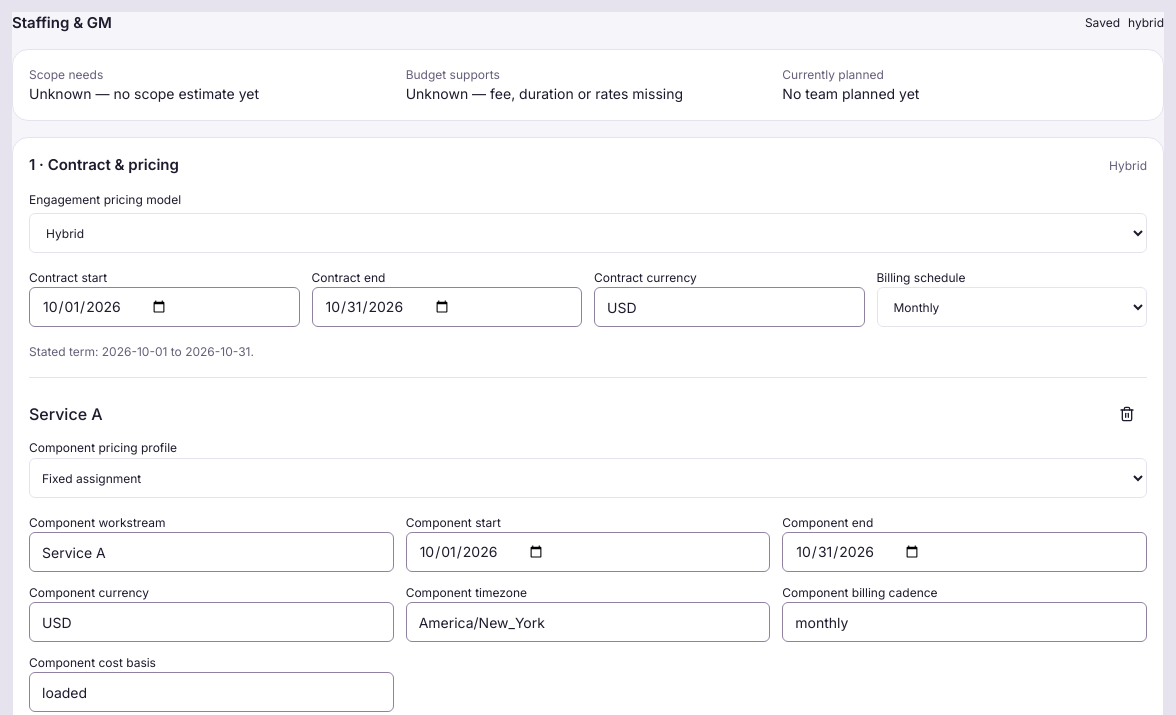
Independent commercial editor boundary checks › does not apply a removed hybrid child's pending model change to its sibling
This screenshot has width=1176, height=715.
Expected: the dropdown named "Pricing profile" is enabled, [29,213,1147,253]
Step 1. Select "Milestone" in the dropdown labelled "Component pricing profile" → coordinates (588, 478), box [29,458,1147,498]
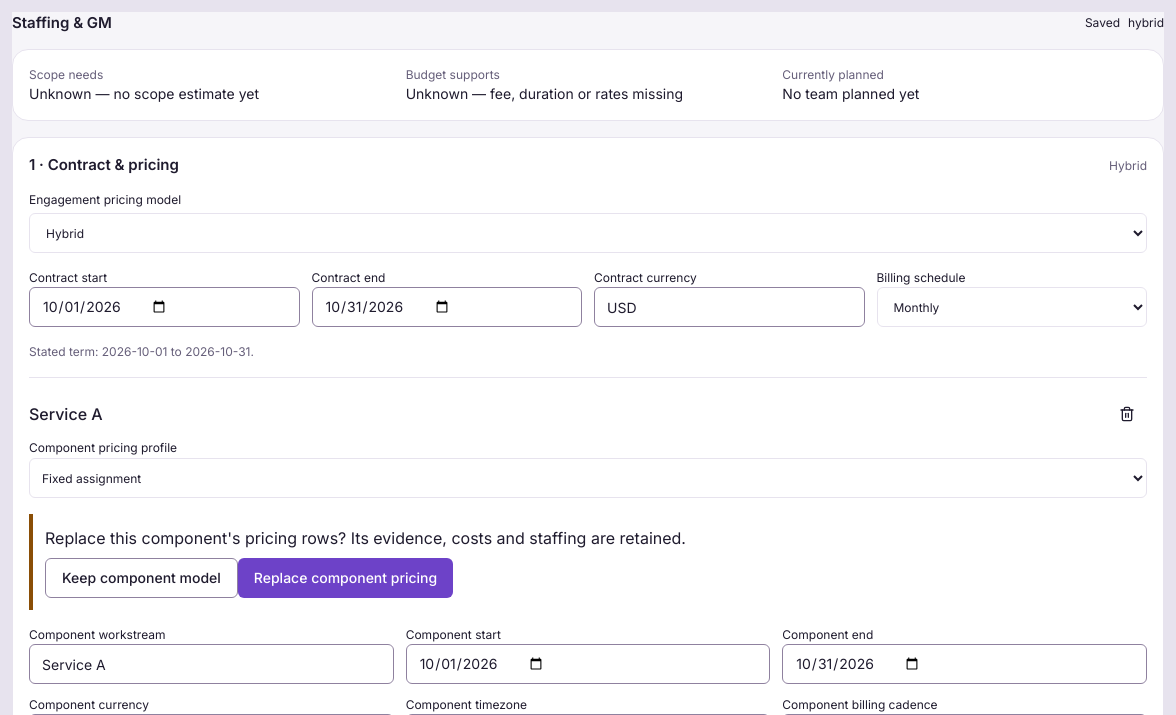
Step 2. Click the button named "Remove component 1" → coordinates (1127, 414), box [1107,394,1147,434]
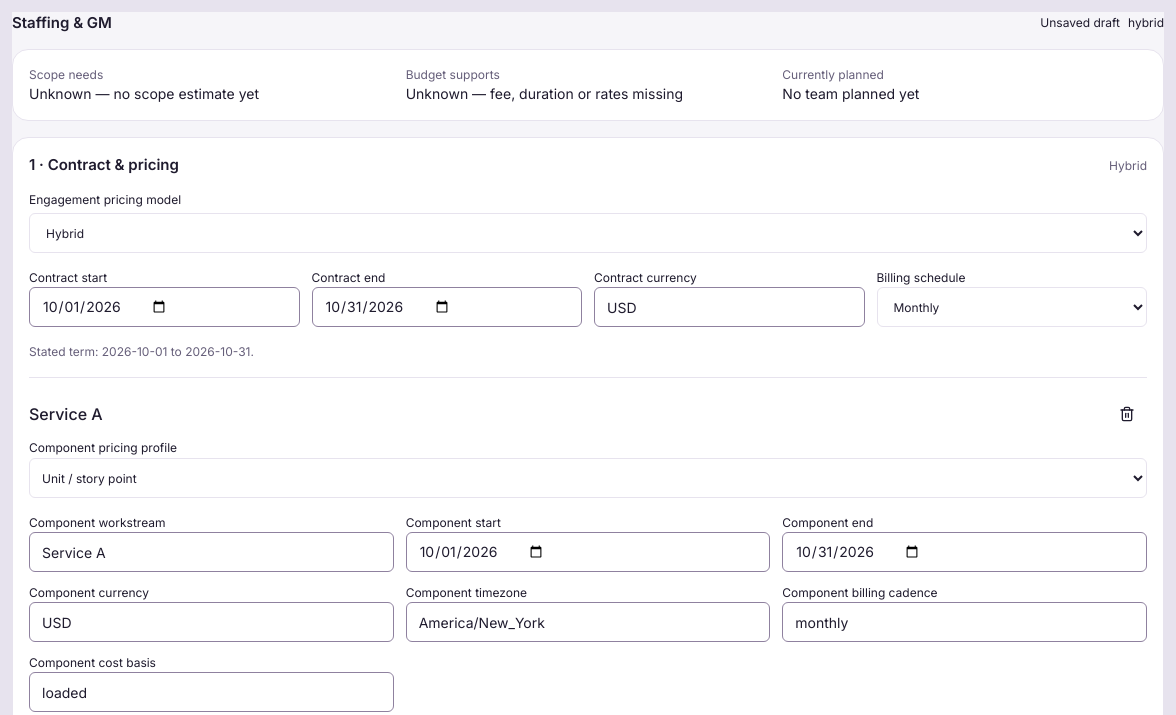
Result: the button "Replace component pricing" is gone
